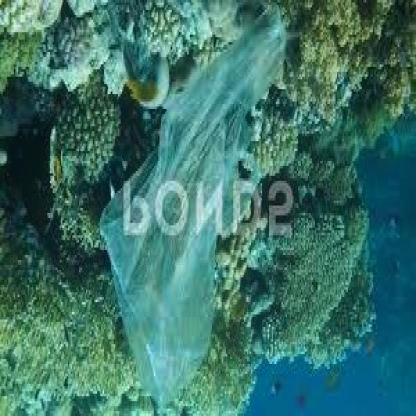pbag: (99, 5, 286, 404)
